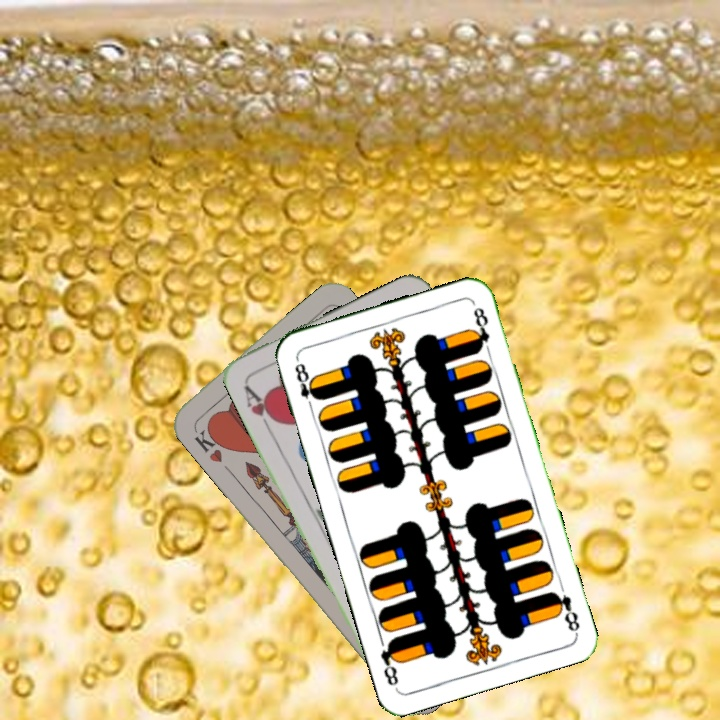E8: (290, 355, 323, 413), (547, 587, 582, 636)
HA: (240, 381, 281, 434)
HK: (189, 420, 230, 465)
